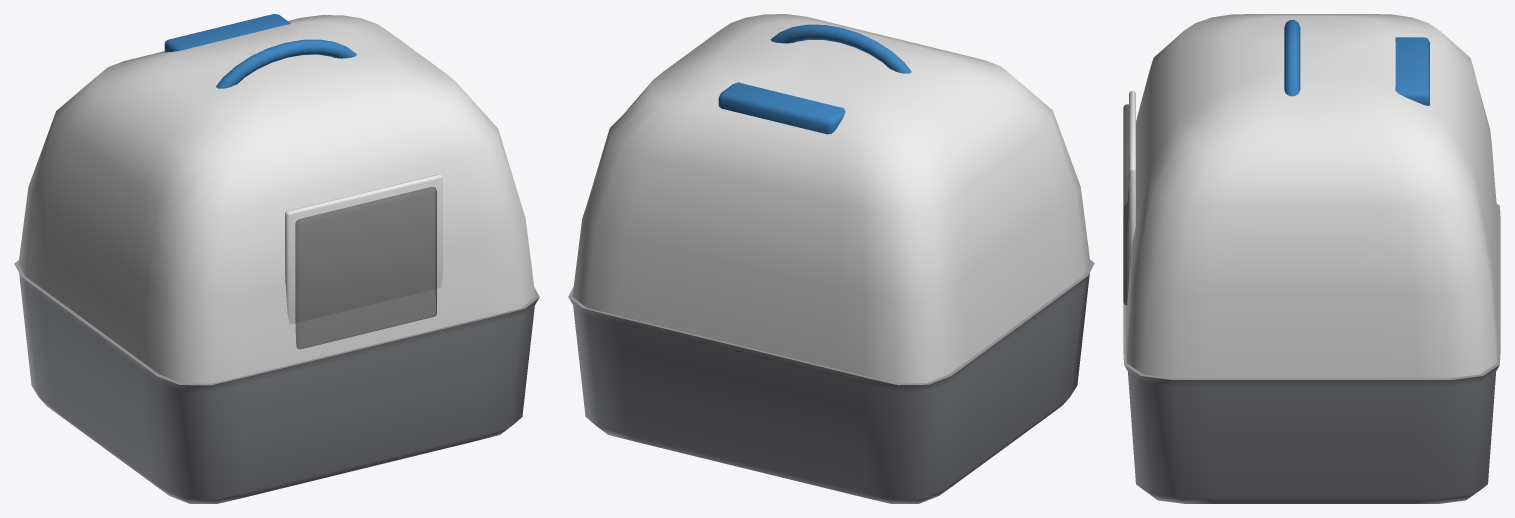
File: recMzp7wqY5eqCN1i.glb
3 renders of one model, left to right at view 1: azimuth 30°, elevation 25°; view 2: azimuth 150°, elevation 25°; view 3: azimuth 270°, elevation 25°, orthographic. The views are drawn at different scales.
Visible parts, largest first — view 1: Litiere_Chat_Corps; view 2: Litiere_Chat_Corps; view 3: Litiere_Chat_Corps.
Part boxes in pixels (x1,y1,x2,y2): Litiere_Chat_Corps: (14,14,539,503); Litiere_Chat_Corps: (568,14,1094,503); Litiere_Chat_Corps: (1123,14,1500,503).
Size of the model in its own units: 0.456 by 0.4326 by 0.384.
